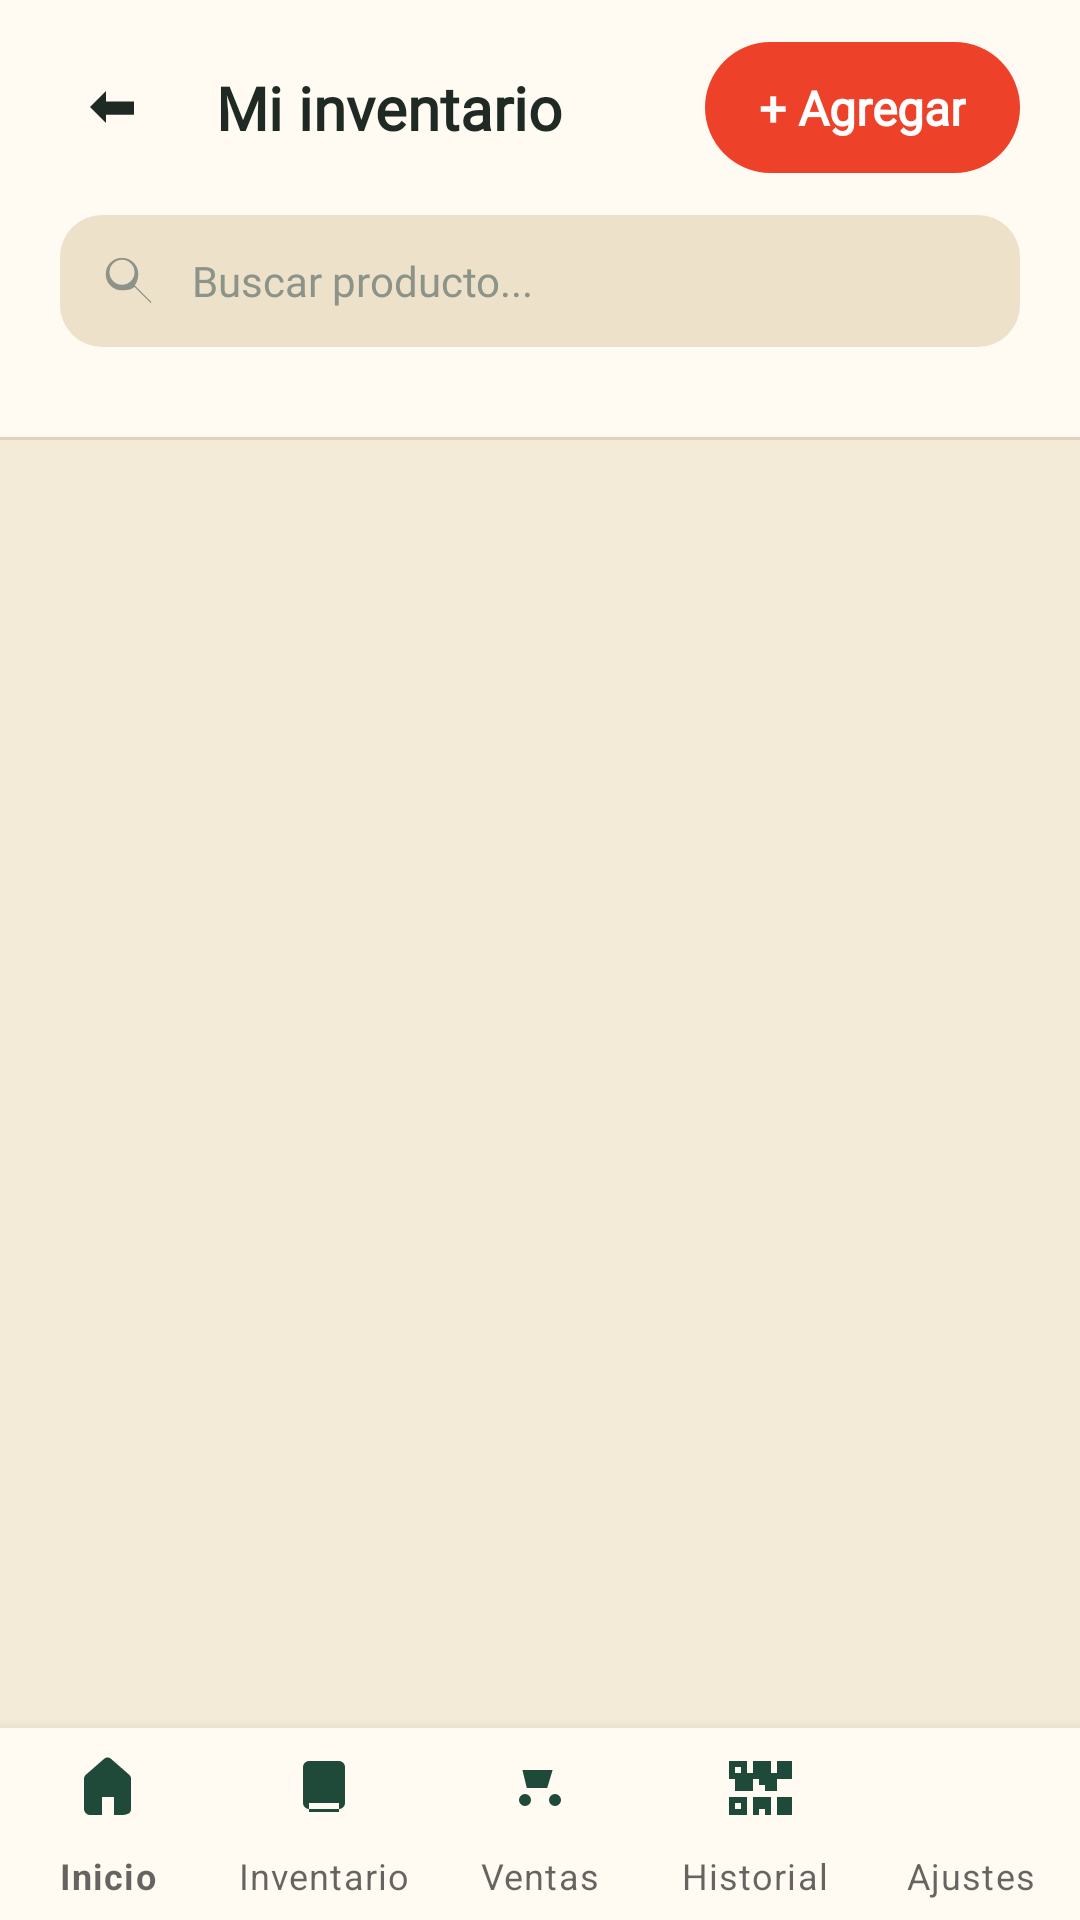

Locate icon controls on the screen. Image size 1080w x 1920h, boxes as (x1, y1, x2, y2).
arrow back: (90, 91, 134, 123)
search: (105, 258, 151, 303)
